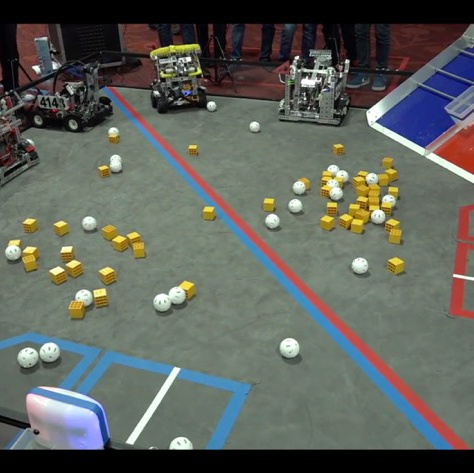robot: (19, 57, 115, 133), (273, 45, 356, 128), (145, 38, 212, 115), (0, 87, 43, 190)
